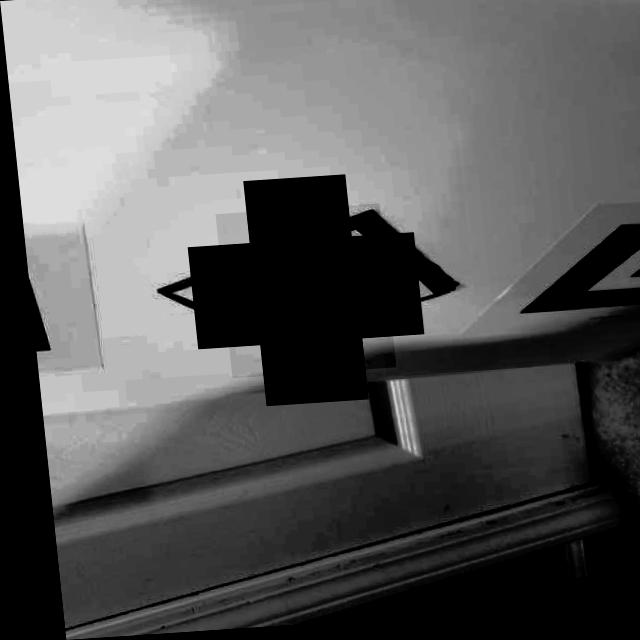qr_code: (210, 207, 388, 380)
